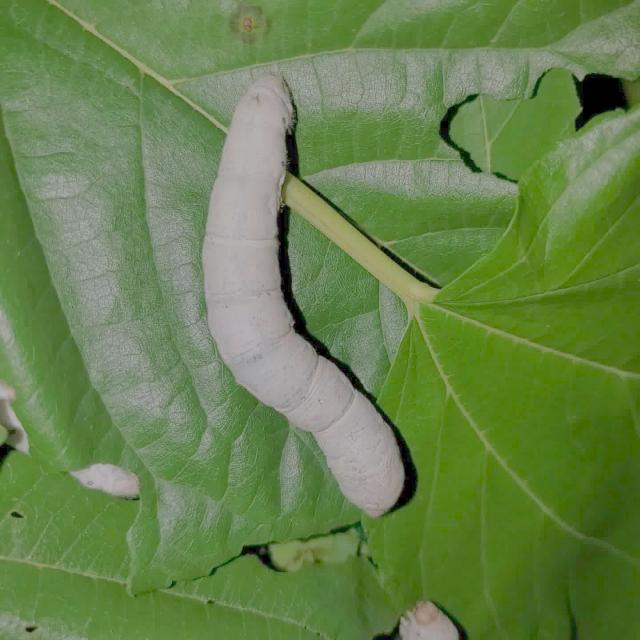Healthy: (190, 66, 419, 528)
